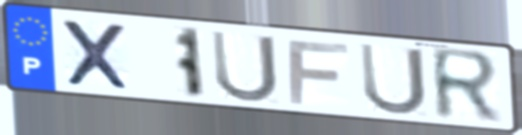1: (172, 25, 209, 102)
F: (285, 39, 353, 107)
R: (427, 45, 504, 126)
U: (208, 28, 282, 105), (356, 40, 430, 117)
X: (58, 17, 135, 93)
